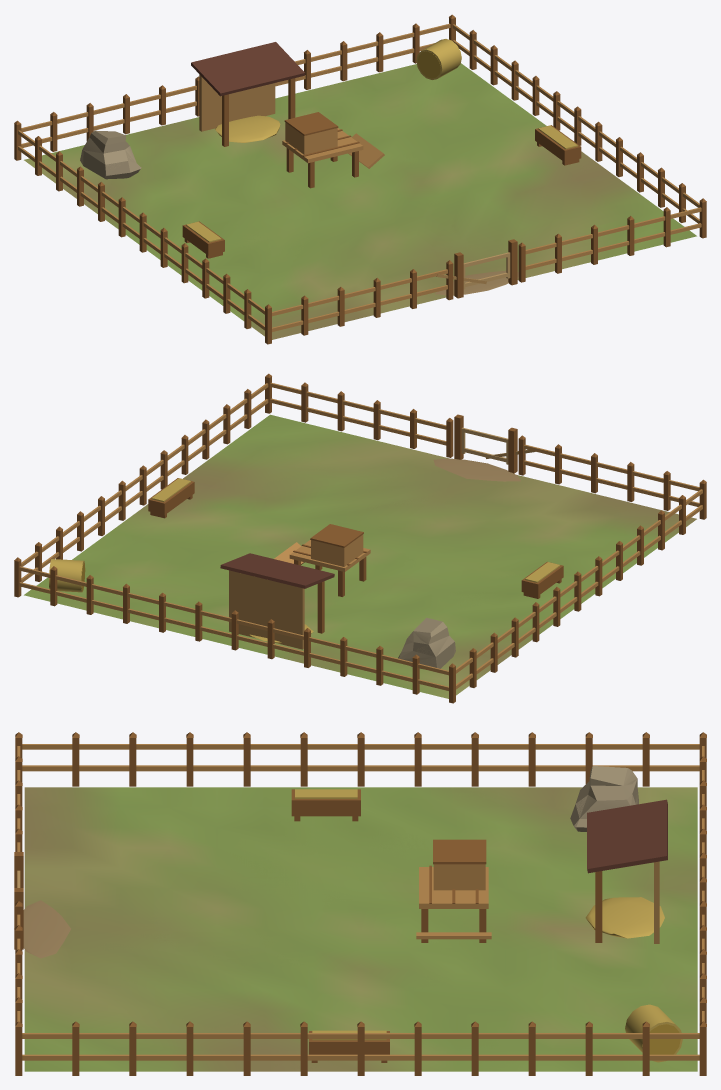
The model's file is goat_yard-g2.glb.
3 renders of one model, top to bottom at view 1: azimuth 30°, elevation 25°; view 2: azimuth 150°, elevation 25°; view 3: azimuth 270°, elevation 25°, orthographic. The views are drawn at different scales.
Visible parts, largest first — view 1: home-goat_yard-g2, home-goat_yard-g2-far; view 2: home-goat_yard-g2, home-goat_yard-g2-far; view 3: home-goat_yard-g2, home-goat_yard-g2-far.
Part boxes in pixels (box(x1,y1,x2,y2)): home-goat_yard-g2: box(14, 14, 706, 344); home-goat_yard-g2-far: box(42, 50, 696, 332); home-goat_yard-g2: box(14, 373, 706, 703); home-goat_yard-g2-far: box(26, 414, 665, 690); home-goat_yard-g2: box(14, 732, 706, 1075); home-goat_yard-g2-far: box(24, 774, 697, 1071).
Bounding box in the file's own units: 11.93 × 1.8 × 11.95.
